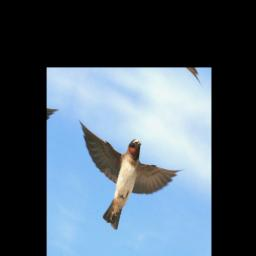Swallow: (61, 108, 187, 256)
